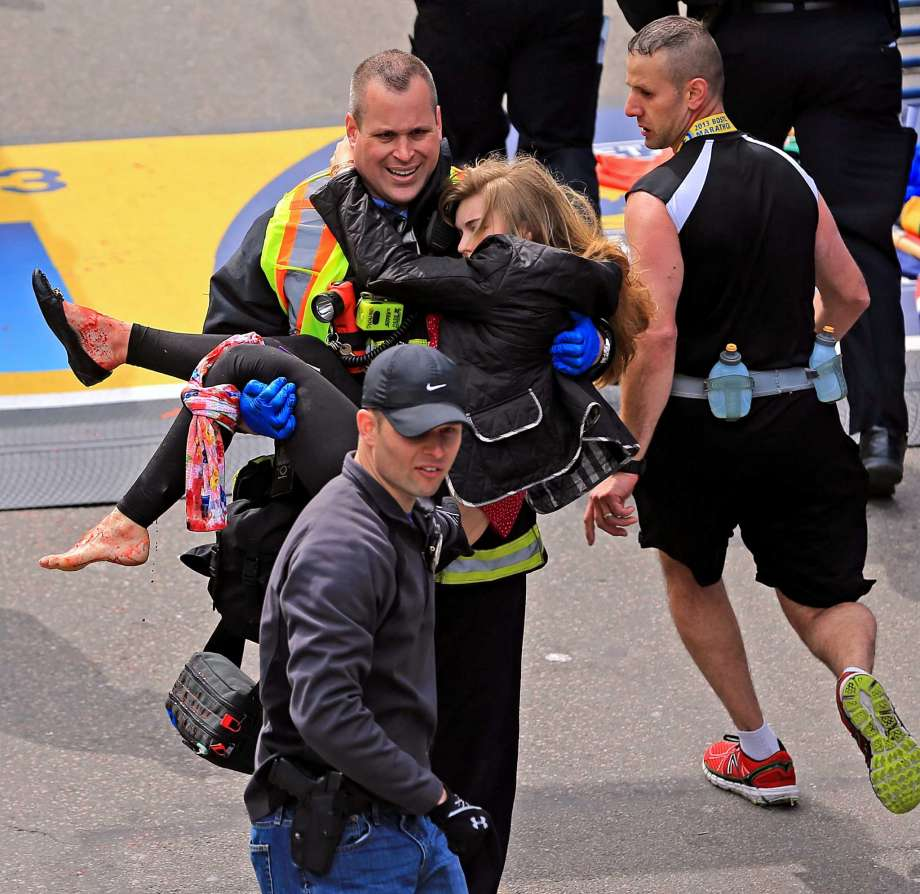Person: (619, 38, 920, 788), (282, 351, 482, 894), (292, 56, 469, 324)
